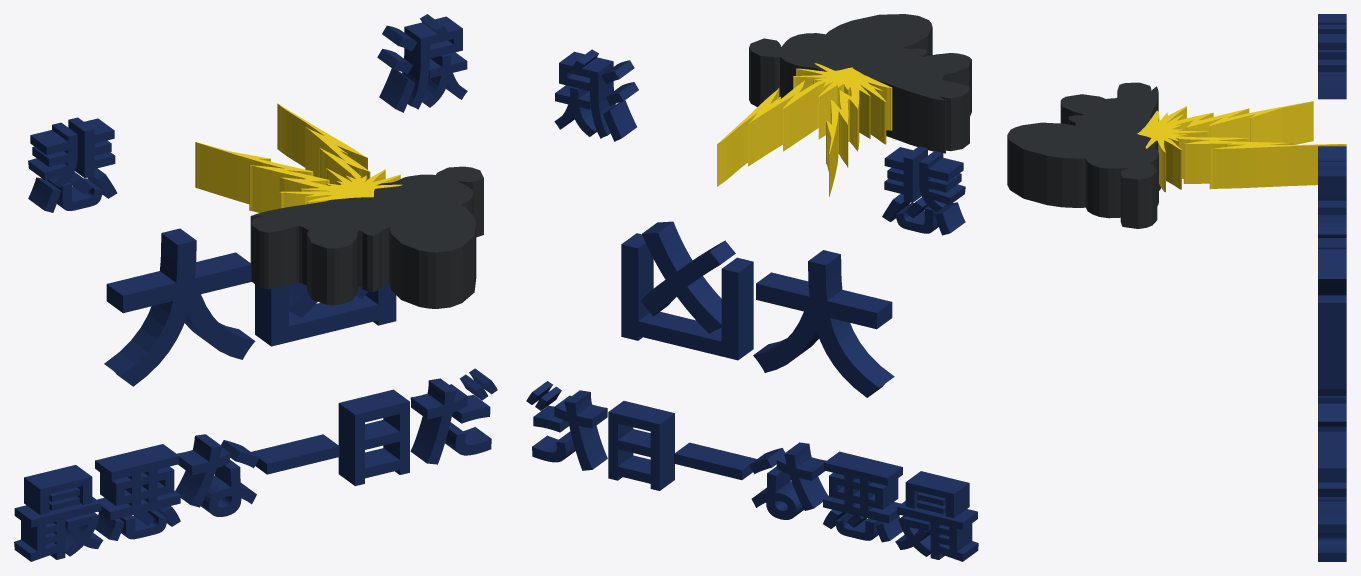
File: tinker.obj
3 views of the same model, side by side, from view 1: azimuth 30°, elevation 25°; view 2: azimuth 150°, elevation 25°; view 3: azimuth 270°, elevation 25° (orthographic). The views are drawn at different scales.
Visible parts, largest first — view 1: group_0_1650274, group_0_2829873, group_0_16768282; view 2: group_0_1650274, group_0_2829873, group_0_16768282; view 3: group_0_2829873, group_0_1650274, group_0_16768282.
Part boxes in pixels (<box>): group_0_1650274: <box>14,14,497,561</box>; group_0_2829873: <box>250,166,483,308</box>; group_0_16768282: <box>195,103,402,212</box>; group_0_1650274: <box>526,49,978,561</box>; group_0_2829873: <box>749,14,971,153</box>; group_0_16768282: <box>717,63,892,196</box>; group_0_2829873: <box>1007,82,1160,228</box>; group_0_1650274: <box>1318,14,1346,561</box>; group_0_16768282: <box>1137,101,1346,192</box>.
Bounding box in the file's own units: 164 × 148 × 118.
